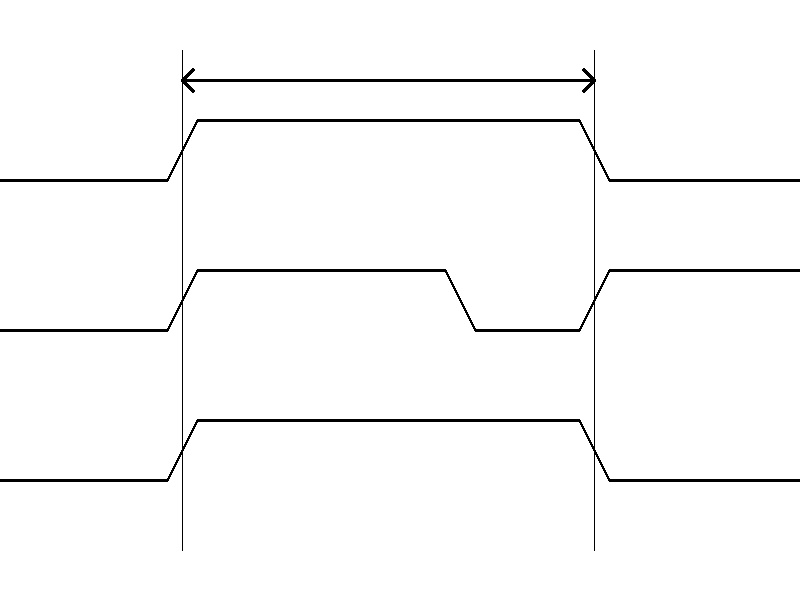double_arrow: (182, 65, 594, 95)
